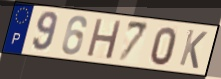0: (148, 25, 179, 68)
6: (60, 15, 88, 57)
7: (118, 19, 151, 64)
9: (31, 10, 59, 54)
H: (85, 16, 124, 61)
K: (177, 28, 209, 71)
